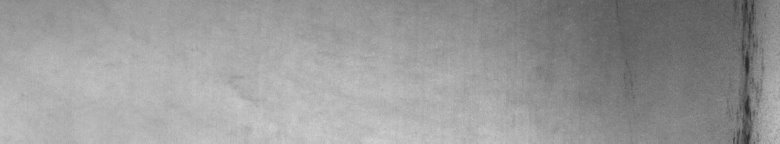hd: (724, 4, 767, 136)
